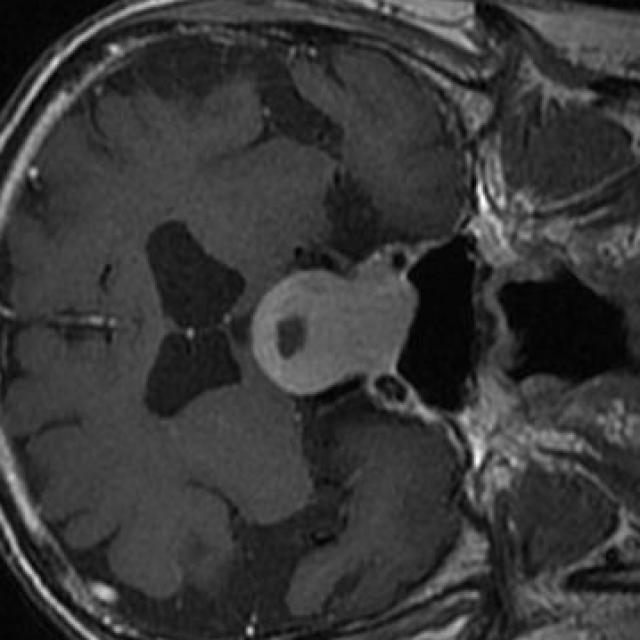pituitary: (250, 244, 414, 398)
